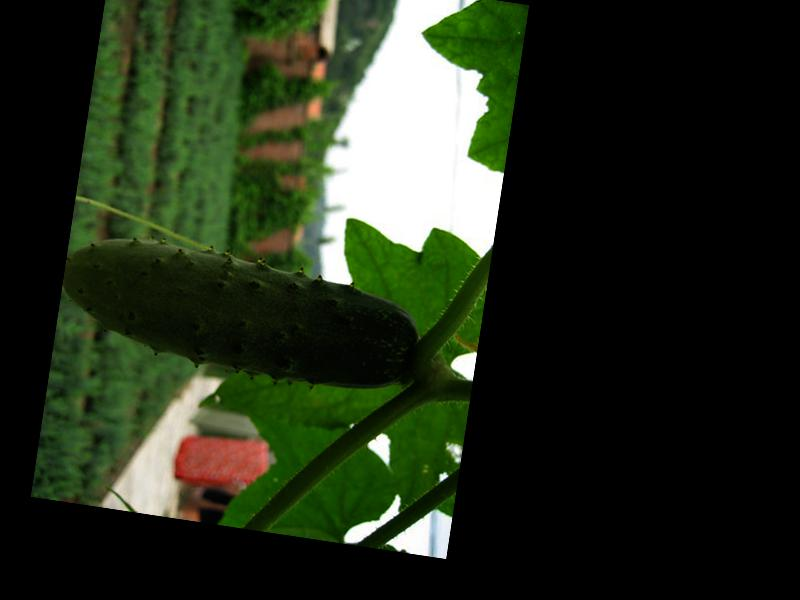Cucumber: (54, 230, 425, 397)
